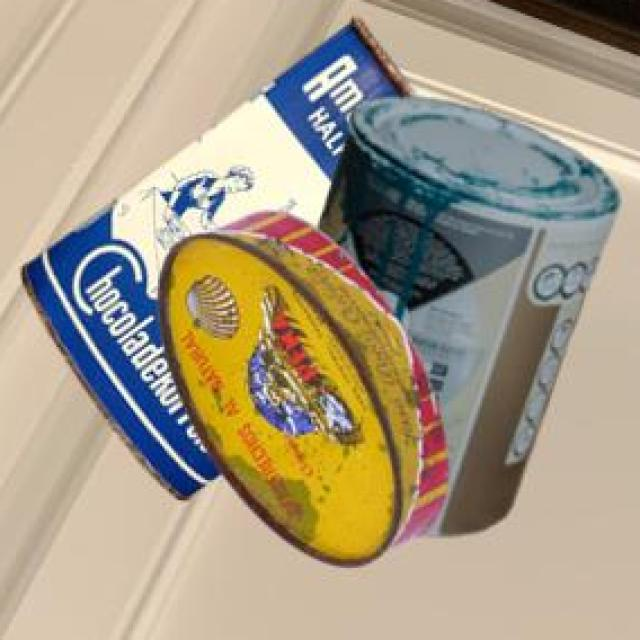logam: (26, 21, 418, 504), (321, 100, 623, 540), (161, 215, 452, 569)
